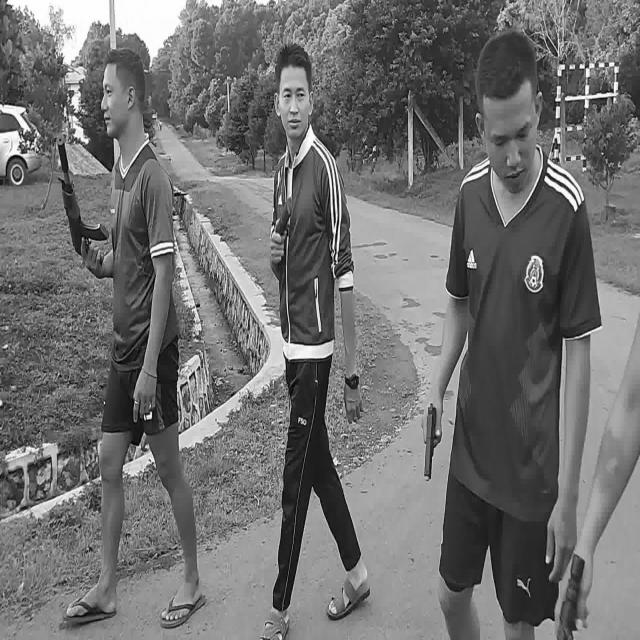gun: (57, 137, 109, 266), (425, 406, 436, 479)
